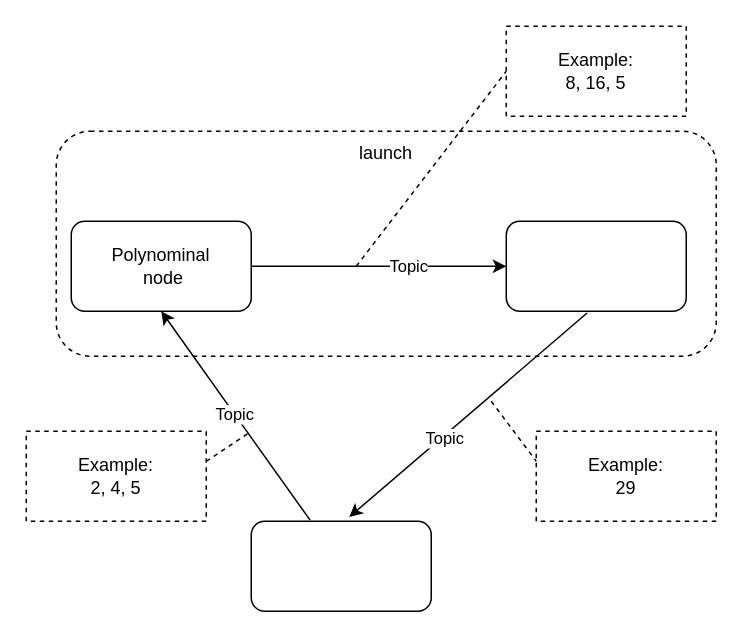
This 743x638 diagram has some shape labels left out. Each missing label, with the box of its shape:
Request node: (250, 520, 431, 611)
Summing node: (505, 220, 686, 311)
